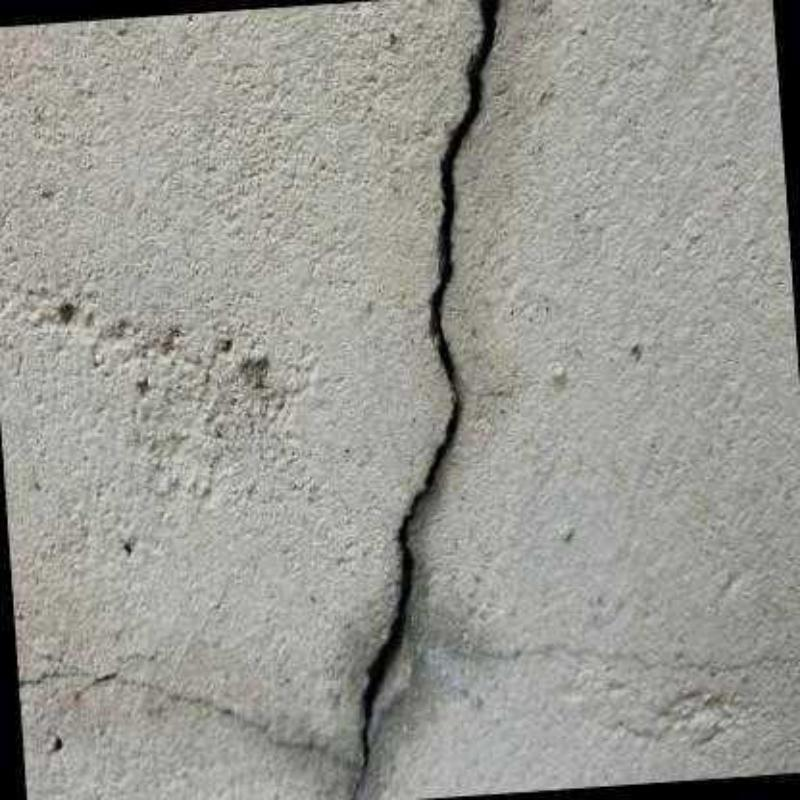pothole: (353, 0, 500, 800)
